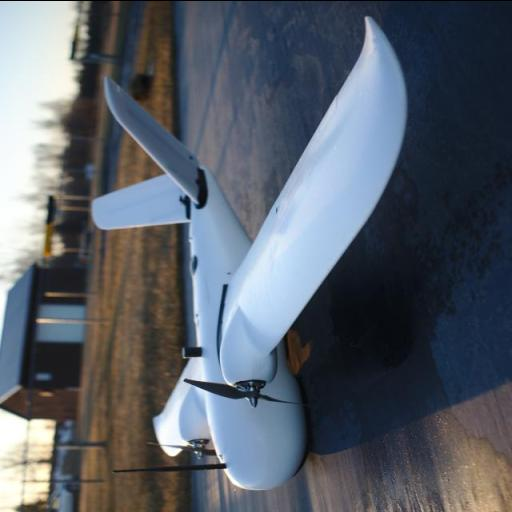uav: (88, 12, 410, 490)
